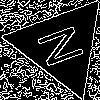N: (36, 20, 95, 70)
